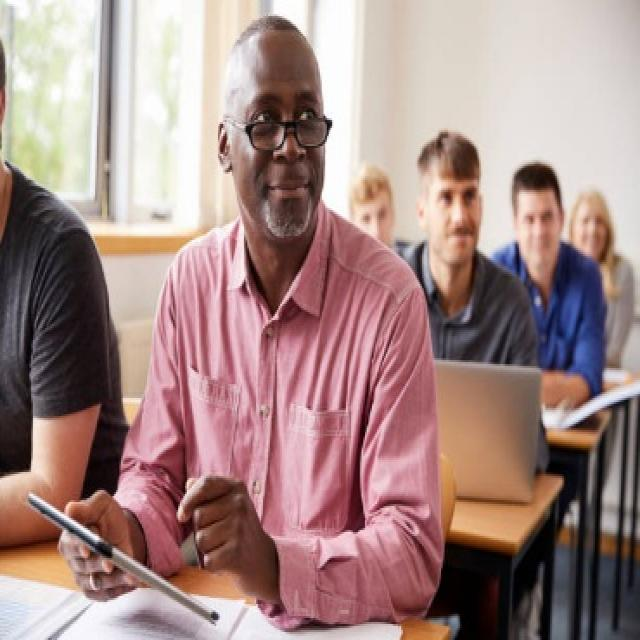adult: (81, 28, 435, 626), (397, 134, 519, 373), (514, 158, 582, 404)
